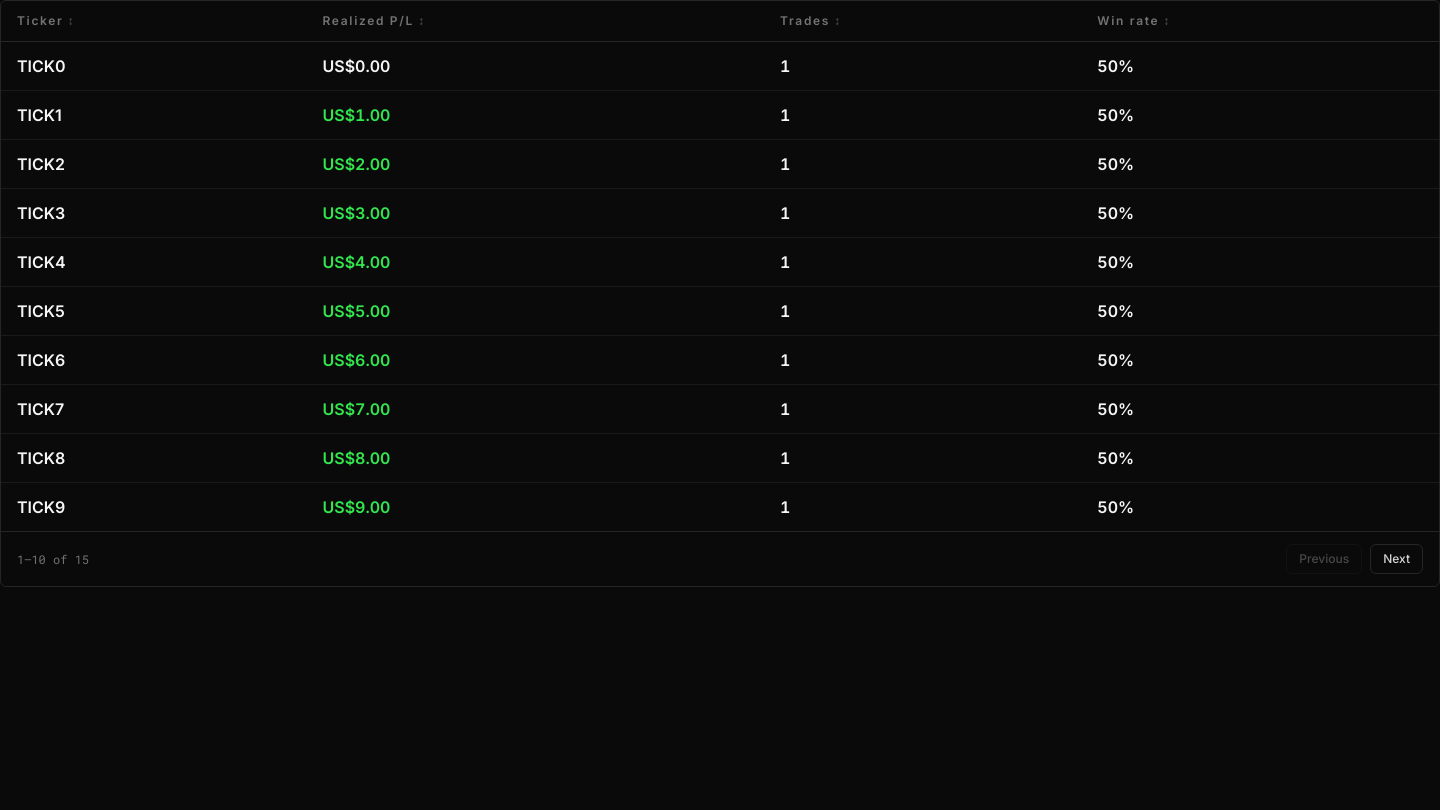
Scenario: TickerPerformanceTable › shows only the first 10 rows and reveals the next 10 after clicking Next
Check: the text "TICK0" is shown, box 1,42 -> 306,90
Check: the text "TICK9" is shown, box 1,482 -> 306,531
Click the button "Next" at coordinates (1397, 559), box 1370,544 -> 1423,574
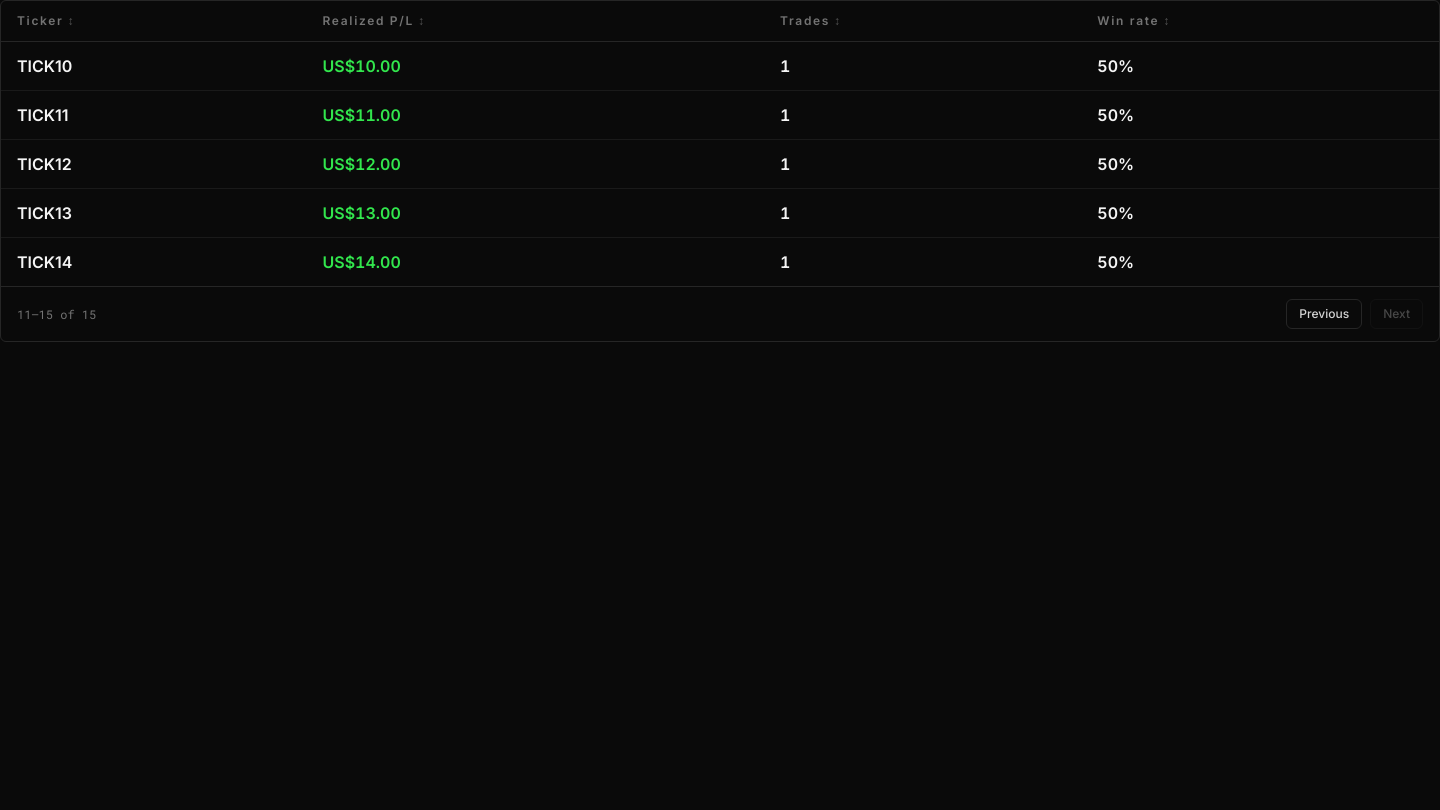
Check: the text "TICK10" is shown, box 1,42 -> 306,90
Check: the text "TICK14" is shown, box 1,238 -> 306,286
Check: the text "TICK0" is gone
